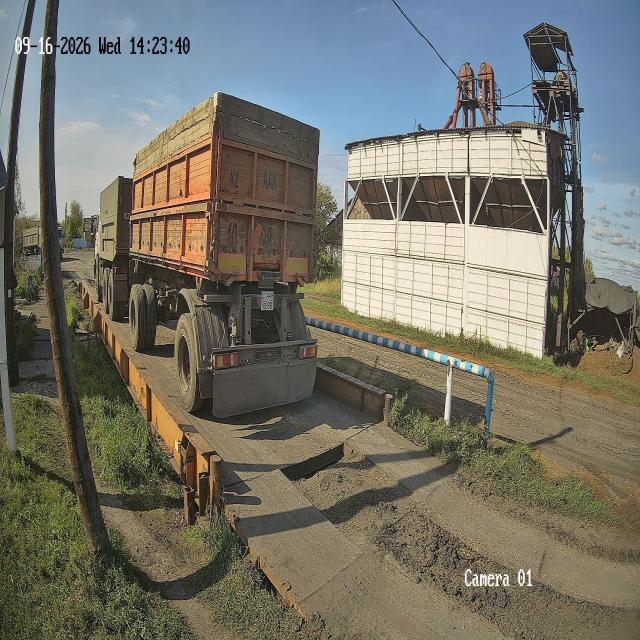license plate: (260, 290, 274, 310)
trailer: (128, 92, 319, 417), (22, 225, 41, 256)
truck: (94, 176, 132, 321), (22, 225, 41, 257), (58, 225, 63, 257)
